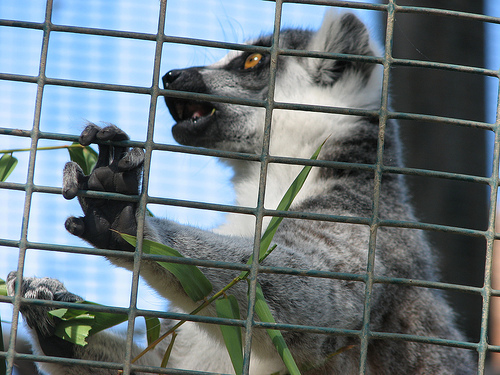cat: (0, 7, 481, 373)
